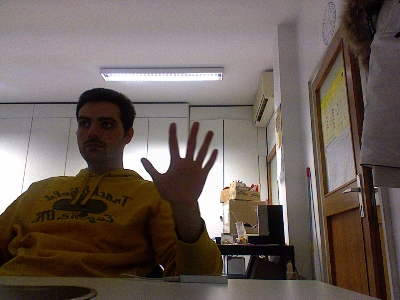布: (138, 119, 218, 205)
